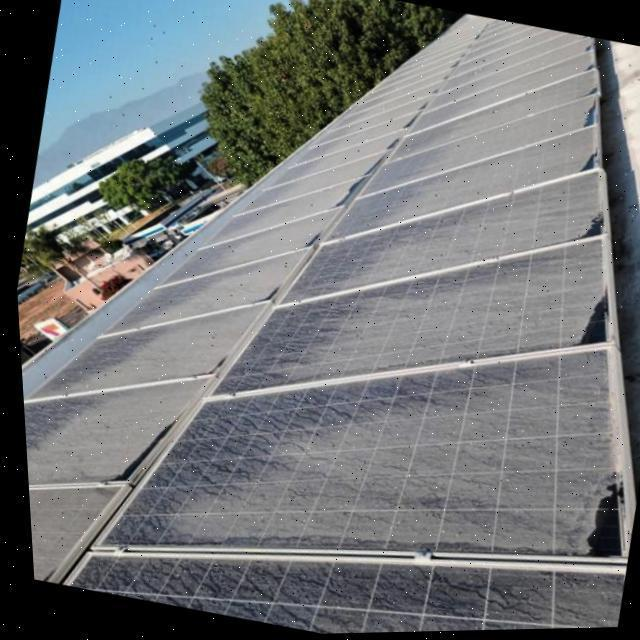Anomaly Solar Panel: (19, 19, 487, 581), (85, 354, 617, 579), (194, 241, 625, 420), (264, 172, 615, 327), (353, 20, 595, 200), (309, 126, 608, 252)
Surface Contaminant: (19, 19, 487, 580), (85, 354, 621, 583), (190, 242, 623, 423), (266, 171, 613, 323), (62, 555, 618, 635), (356, 20, 594, 198), (311, 130, 602, 246)
